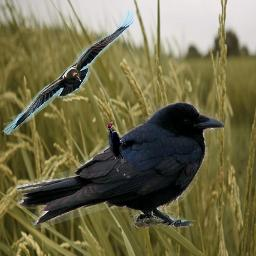Crow: (17, 101, 224, 228), (1, 9, 137, 135)
Woodpecker: (107, 120, 127, 164)
